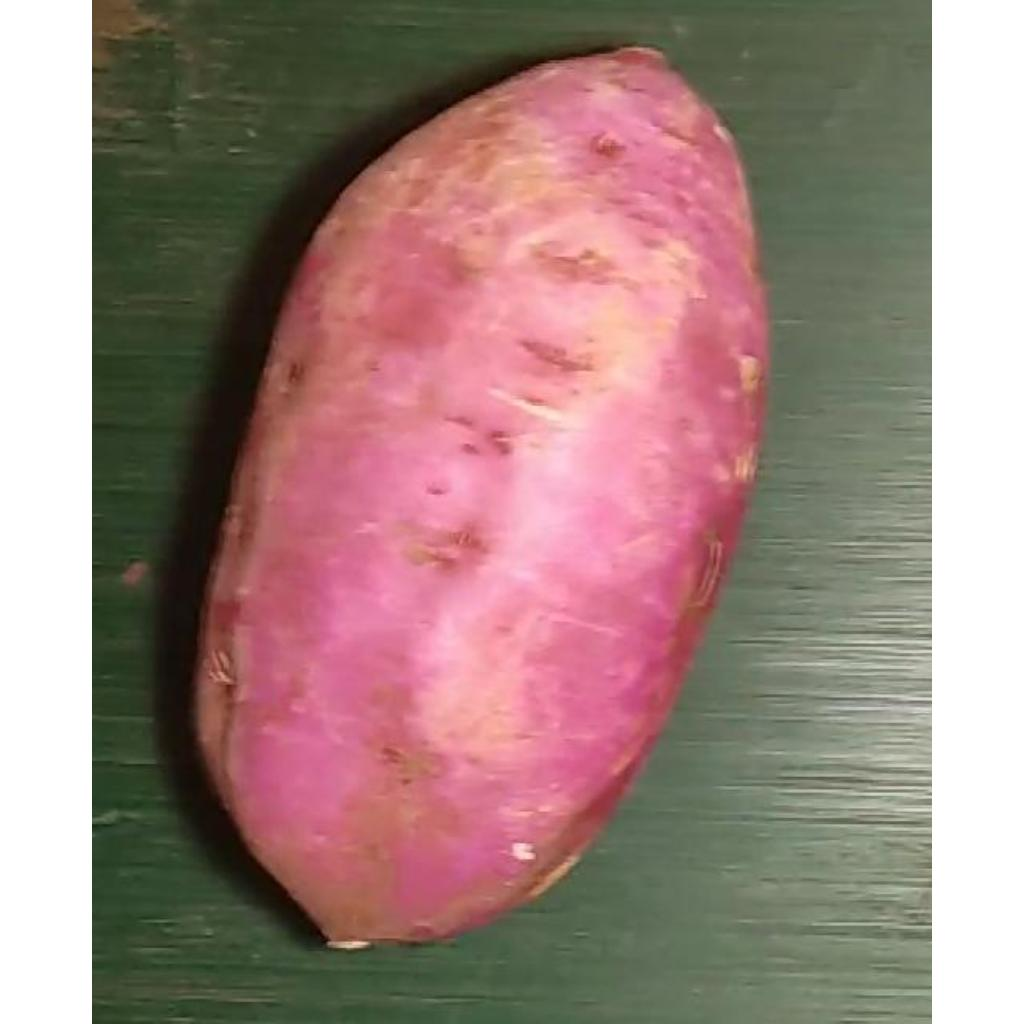Sweet Potato: (192, 44, 772, 953)
